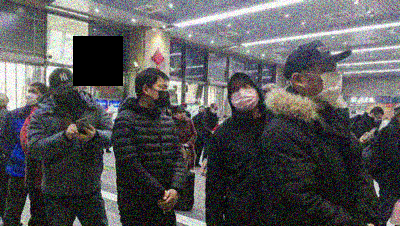with_mask: (307, 61, 343, 103), (229, 81, 259, 111), (52, 86, 80, 108), (151, 81, 171, 108), (25, 86, 40, 104), (373, 114, 383, 123), (218, 118, 225, 125), (212, 106, 218, 114)
without_mask: (177, 110, 186, 120)
